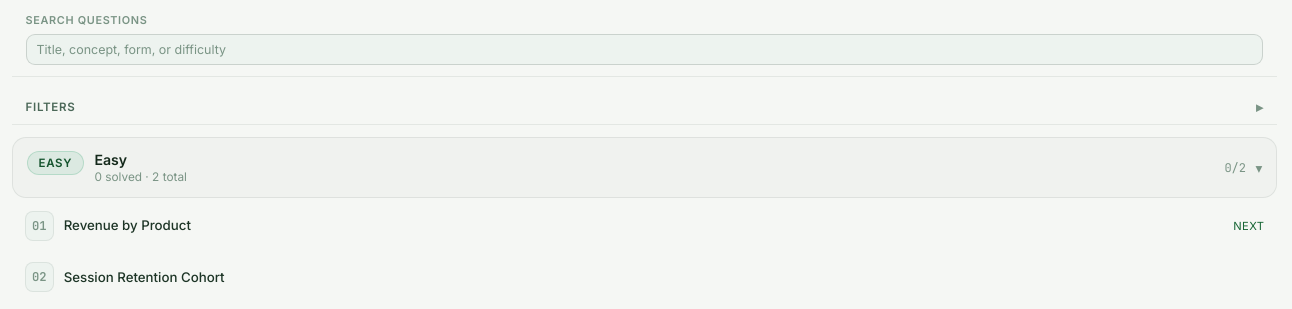
it: SidebarNav › filters sidebar questions by fuzzy search query
Type "window funct" into the search field with placeholder "Title, concept, form, or difficulty" at (644, 49), box [26, 34, 1263, 65]
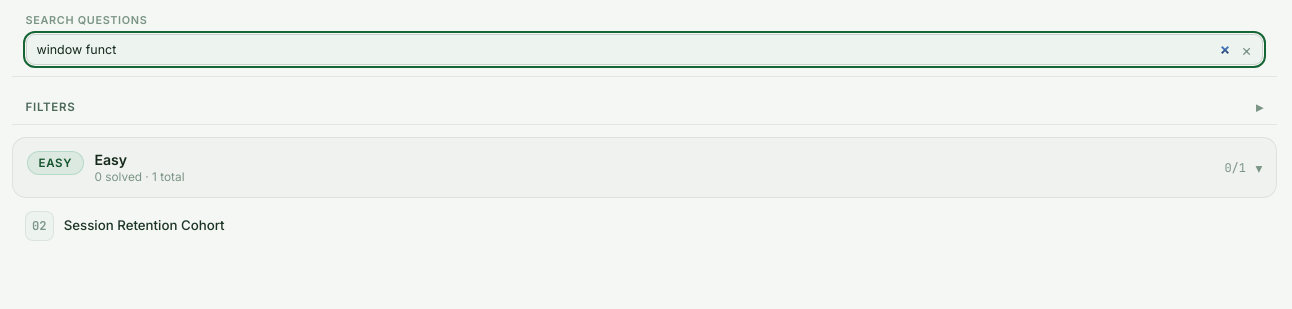
Expected: the text "Session Retention Cohort" is shown, [64, 216, 225, 235]
Result: the link "Revenue by Product" is gone
